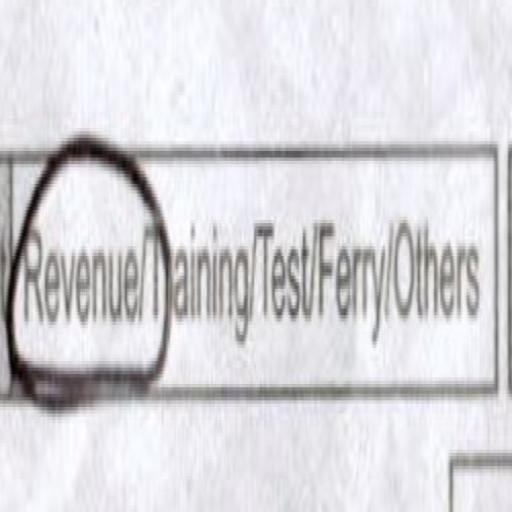check: (12, 86, 150, 453)
